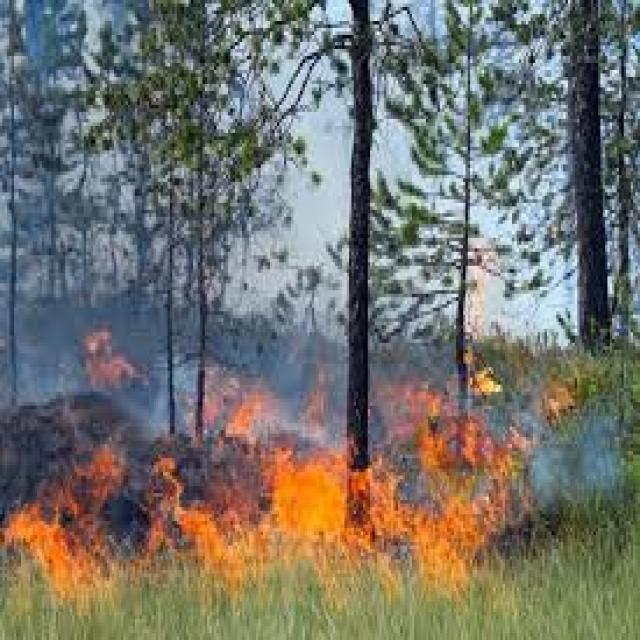Fire: (264, 412, 520, 580), (13, 466, 252, 594), (462, 353, 500, 400), (544, 378, 580, 427)
Smoke: (177, 36, 380, 378), (9, 22, 142, 366)
